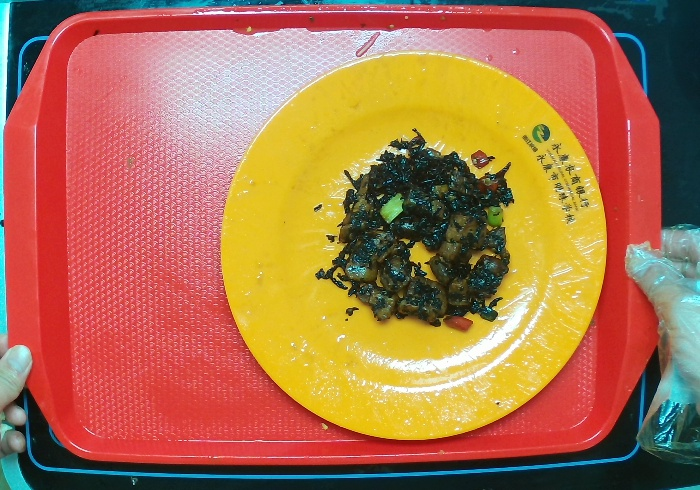YKMZ-Ju_Se_Mian_Pan: (216, 44, 614, 456)
